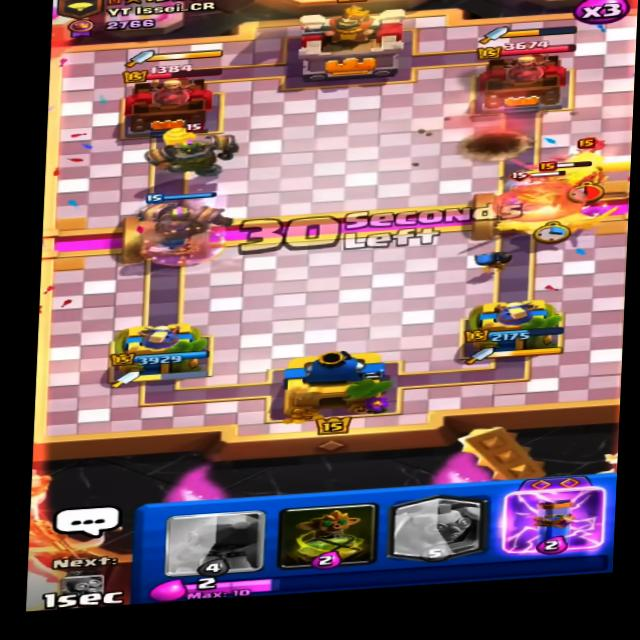Goblinmachine: (143, 117, 254, 182)
